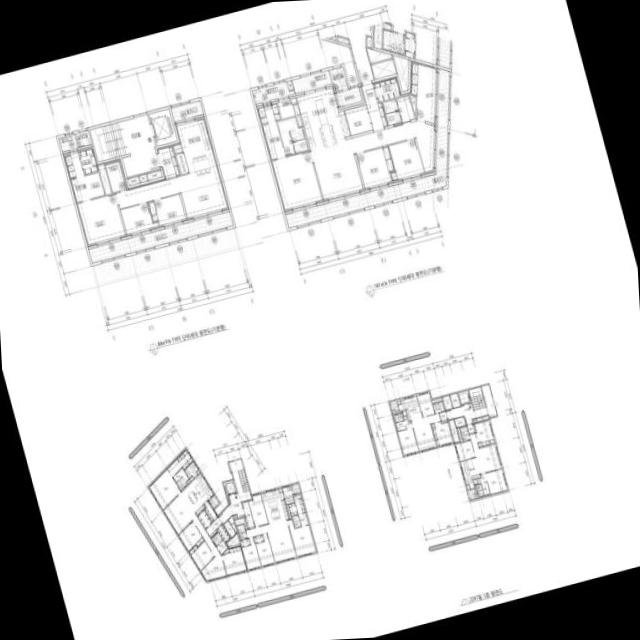background: (0, 0, 640, 640)
space_balconi: (285, 68, 449, 227), (88, 211, 233, 262), (252, 81, 294, 103), (292, 70, 332, 93), (170, 100, 203, 121), (58, 134, 78, 151), (208, 494, 219, 508), (291, 483, 300, 494)
space_bedroom: (271, 151, 322, 211), (76, 194, 125, 246), (410, 60, 437, 123), (356, 146, 394, 189), (389, 138, 424, 182), (148, 468, 180, 509), (120, 202, 159, 235), (148, 194, 186, 227), (287, 519, 316, 556), (344, 104, 372, 135), (188, 540, 214, 571), (178, 521, 204, 551), (222, 545, 247, 575), (398, 419, 418, 455), (480, 469, 507, 494), (248, 493, 268, 526), (255, 533, 275, 566), (242, 537, 261, 570), (431, 421, 453, 446), (475, 420, 495, 446), (417, 391, 434, 416), (455, 440, 475, 461), (254, 534, 264, 543), (240, 538, 250, 546)
space_dressroom: (261, 122, 285, 159), (256, 101, 281, 124), (63, 152, 84, 179), (78, 146, 98, 174), (177, 448, 193, 470), (293, 494, 305, 513), (288, 503, 297, 515)
space_elevator: (149, 108, 177, 145), (223, 480, 236, 495), (458, 390, 471, 405)
space_elevator_hall: (122, 114, 160, 177), (219, 459, 251, 523), (446, 403, 487, 424)
space_front: (360, 82, 387, 132), (157, 144, 180, 178), (373, 76, 401, 101), (242, 501, 254, 528), (206, 517, 222, 537), (198, 509, 211, 528), (217, 524, 230, 543), (439, 411, 447, 422), (467, 424, 476, 433)
space_kitchen: (296, 86, 350, 151), (175, 116, 218, 173), (181, 472, 214, 515), (260, 488, 289, 524), (460, 457, 481, 488), (398, 395, 422, 421)
space_living_room: (311, 120, 435, 200), (116, 166, 229, 219), (163, 492, 226, 581), (246, 519, 296, 562), (469, 433, 501, 473), (411, 413, 440, 451)
space_multipurpose_space: (277, 96, 297, 118)
space_other: (338, 25, 374, 82), (393, 55, 409, 91), (481, 384, 497, 417), (371, 58, 396, 79), (336, 87, 362, 106), (97, 163, 111, 194), (366, 47, 392, 63), (204, 500, 217, 522), (175, 152, 188, 174), (448, 419, 459, 442), (184, 461, 198, 478), (282, 485, 294, 504), (293, 104, 302, 126), (224, 520, 235, 537), (227, 533, 240, 546), (442, 395, 453, 409), (228, 515, 237, 532), (147, 170, 162, 180), (450, 393, 460, 408), (235, 517, 247, 529), (454, 416, 465, 427), (410, 95, 416, 115), (389, 400, 399, 412), (127, 176, 140, 185), (467, 488, 476, 500), (173, 142, 182, 153), (337, 36, 349, 44), (457, 428, 463, 442), (476, 415, 488, 421), (139, 174, 147, 182), (287, 80, 293, 90), (287, 504, 291, 518), (366, 36, 371, 47), (431, 398, 442, 403), (186, 476, 193, 483), (222, 548, 229, 553), (227, 496, 230, 504), (278, 487, 282, 492), (196, 469, 200, 474), (233, 514, 237, 518), (472, 418, 476, 422), (397, 400, 401, 404), (403, 415, 407, 419), (466, 484, 470, 488), (477, 478, 480, 483), (391, 410, 395, 413), (475, 493, 477, 498)
space_outdoor_room: (329, 66, 348, 91), (75, 130, 91, 147)
space_staircase: (90, 121, 130, 161), (469, 387, 485, 410), (237, 469, 249, 492)
space_toilet: (277, 117, 308, 155), (70, 172, 104, 202), (105, 161, 126, 192), (396, 95, 415, 121), (173, 468, 189, 490), (167, 458, 181, 476), (386, 110, 401, 125), (382, 99, 398, 113), (394, 413, 406, 430), (476, 482, 490, 496), (216, 540, 227, 554), (237, 524, 247, 539), (460, 426, 470, 441), (432, 401, 444, 413), (298, 512, 308, 526), (211, 535, 219, 546), (215, 532, 222, 542), (292, 514, 299, 522), (293, 520, 301, 527)
